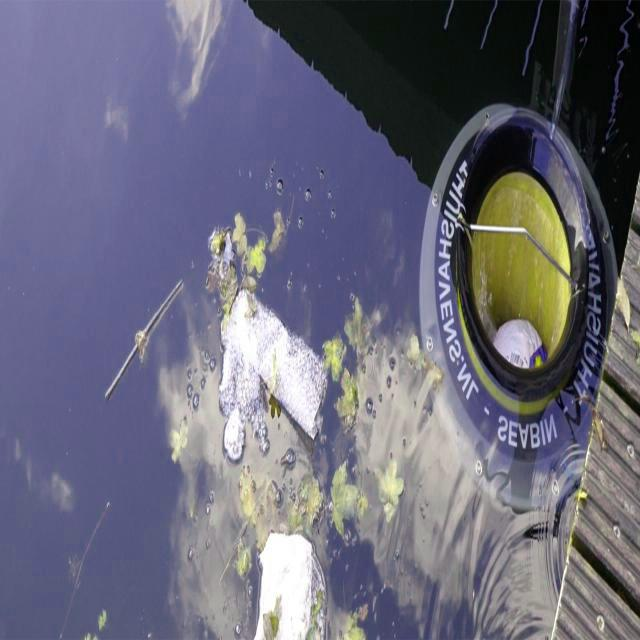Trash: (219, 290, 332, 429), (251, 534, 330, 640)
